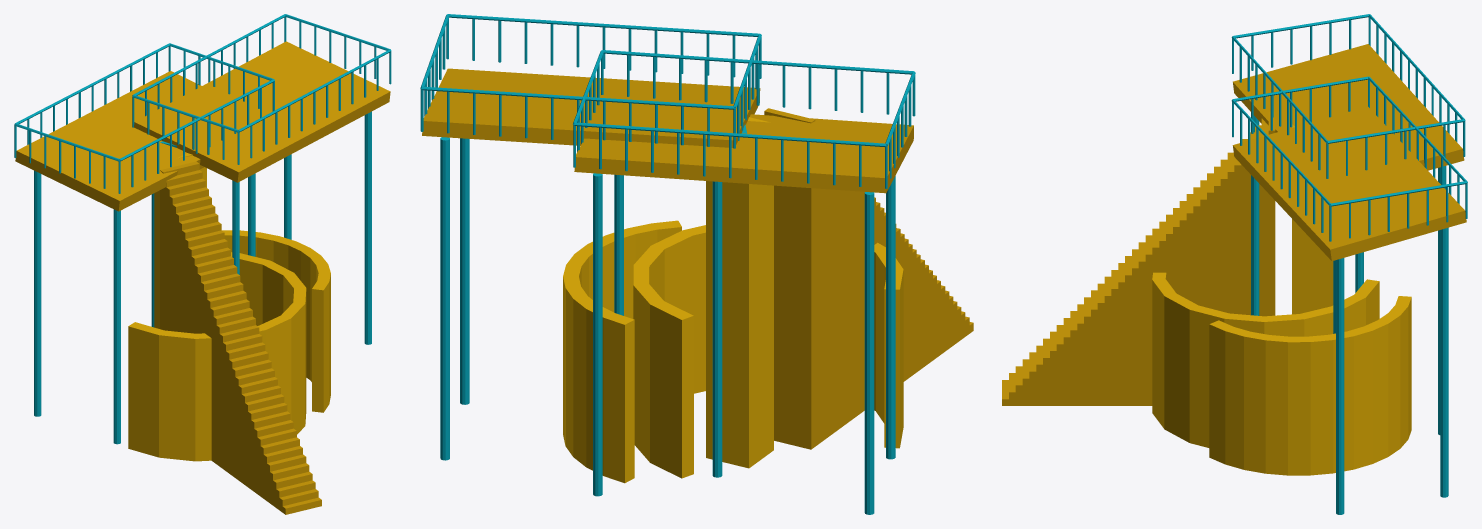
The model's file is folie_tag_016.glb.
The picture shows the model from 3 angles, left to right: view 1: azimuth 30°, elevation 25°; view 2: azimuth 150°, elevation 25°; view 3: azimuth 270°, elevation 25°; orthographic projection. The views are drawn at different scales.
Parts seen in each view (by area): view 1: folie_tag_016_stairs, folie_tag_016_line, folie_tag_016_03_curve, folie_tag_016_01_plate, folie_tag_016_00_plate, folie_tag_016_02_curve, folie_tag_016_core; view 2: folie_tag_016_line, folie_tag_016_stairs, folie_tag_016_03_curve, folie_tag_016_01_plate, folie_tag_016_core, folie_tag_016_00_plate, folie_tag_016_02_curve; view 3: folie_tag_016_stairs, folie_tag_016_02_curve, folie_tag_016_01_plate, folie_tag_016_line, folie_tag_016_03_curve, folie_tag_016_00_plate, folie_tag_016_core.
Boxes of the visible parts, x1,y1,x2,y2 form: folie_tag_016_stairs: (160, 161, 321, 514); folie_tag_016_line: (14, 14, 391, 444); folie_tag_016_03_curve: (128, 252, 306, 461); folie_tag_016_01_plate: (134, 41, 390, 182); folie_tag_016_00_plate: (15, 71, 203, 211); folie_tag_016_02_curve: (222, 230, 330, 412); folie_tag_016_core: (154, 153, 206, 328); folie_tag_016_line: (420, 14, 915, 514); folie_tag_016_stairs: (764, 108, 973, 449); folie_tag_016_03_curve: (633, 225, 903, 478); folie_tag_016_01_plate: (422, 68, 760, 147); folie_tag_016_core: (706, 117, 773, 468); folie_tag_016_00_plate: (574, 114, 913, 193); folie_tag_016_02_curve: (563, 220, 681, 483); folie_tag_016_stairs: (1002, 111, 1275, 405); folie_tag_016_02_curve: (1209, 296, 1411, 475); folie_tag_016_01_plate: (1232, 106, 1466, 261); folie_tag_016_line: (1231, 14, 1467, 514); folie_tag_016_03_curve: (1152, 272, 1379, 447); folie_tag_016_00_plate: (1233, 44, 1464, 170); folie_tag_016_core: (1292, 124, 1333, 314).
Size of the model in its own units: 11.89 by 9.26 by 12.27.
